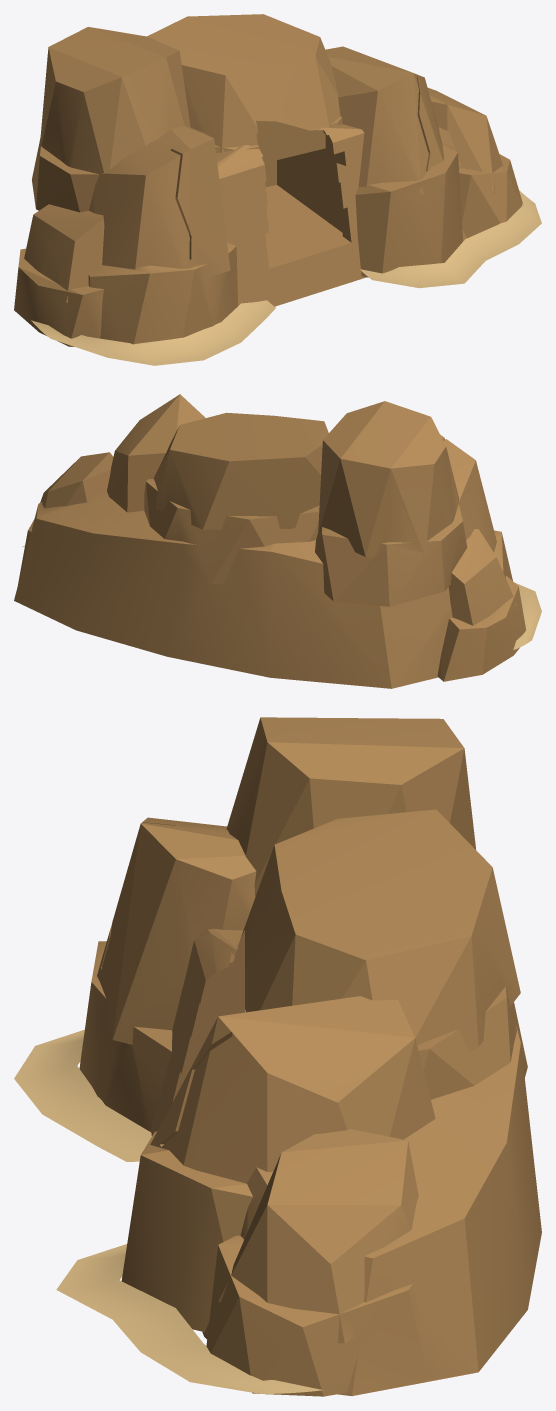
File: mountain.glb
3 renders of one model, top to bottom at view 1: azimuth 30°, elevation 25°; view 2: azimuth 150°, elevation 25°; view 3: azimuth 270°, elevation 25°, orthographic. The views are drawn at different scales.
Parts seen in each view (by area): view 1: mountain-continuous-union, sand-foot--1, sand-foot-1; view 2: mountain-continuous-union, sand-foot--1; view 3: mountain-continuous-union, sand-foot-1, sand-foot--1.
Boxes of the visible parts, x1,y1,x2,y2 form: mountain-continuous-union: (14,14,522,346); sand-foot--1: (31,300,275,365); sand-foot-1: (360,190,541,288); mountain-continuous-union: (14,394,525,688); sand-foot--1: (513,582,541,649); mountain-continuous-union: (79,717,541,1396); sand-foot-1: (56,1244,323,1393); sand-foot--1: (14,1029,151,1161).
Bounding box in the file's own units: 130 × 59.6 × 75.
